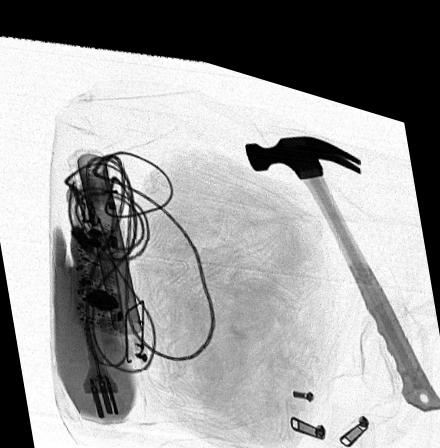Hammer: (244, 117, 440, 387)
